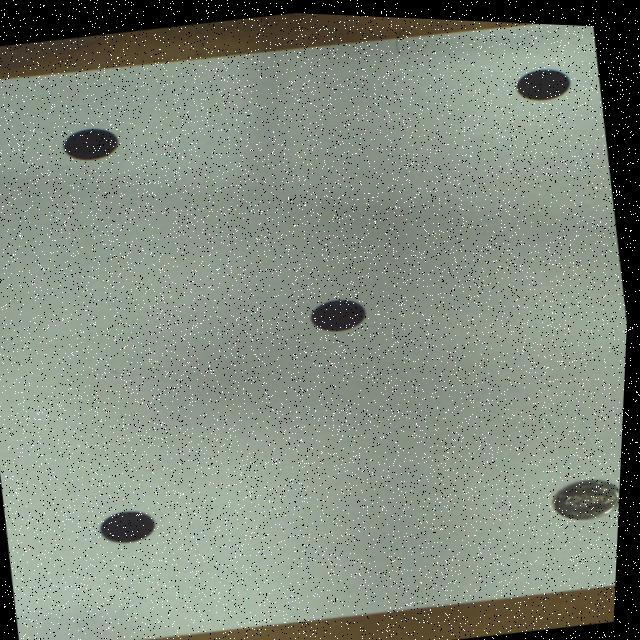space: (313, 296, 368, 329), (105, 510, 160, 542), (515, 65, 570, 96), (65, 128, 119, 159)
tail1bath: (557, 474, 624, 514)
